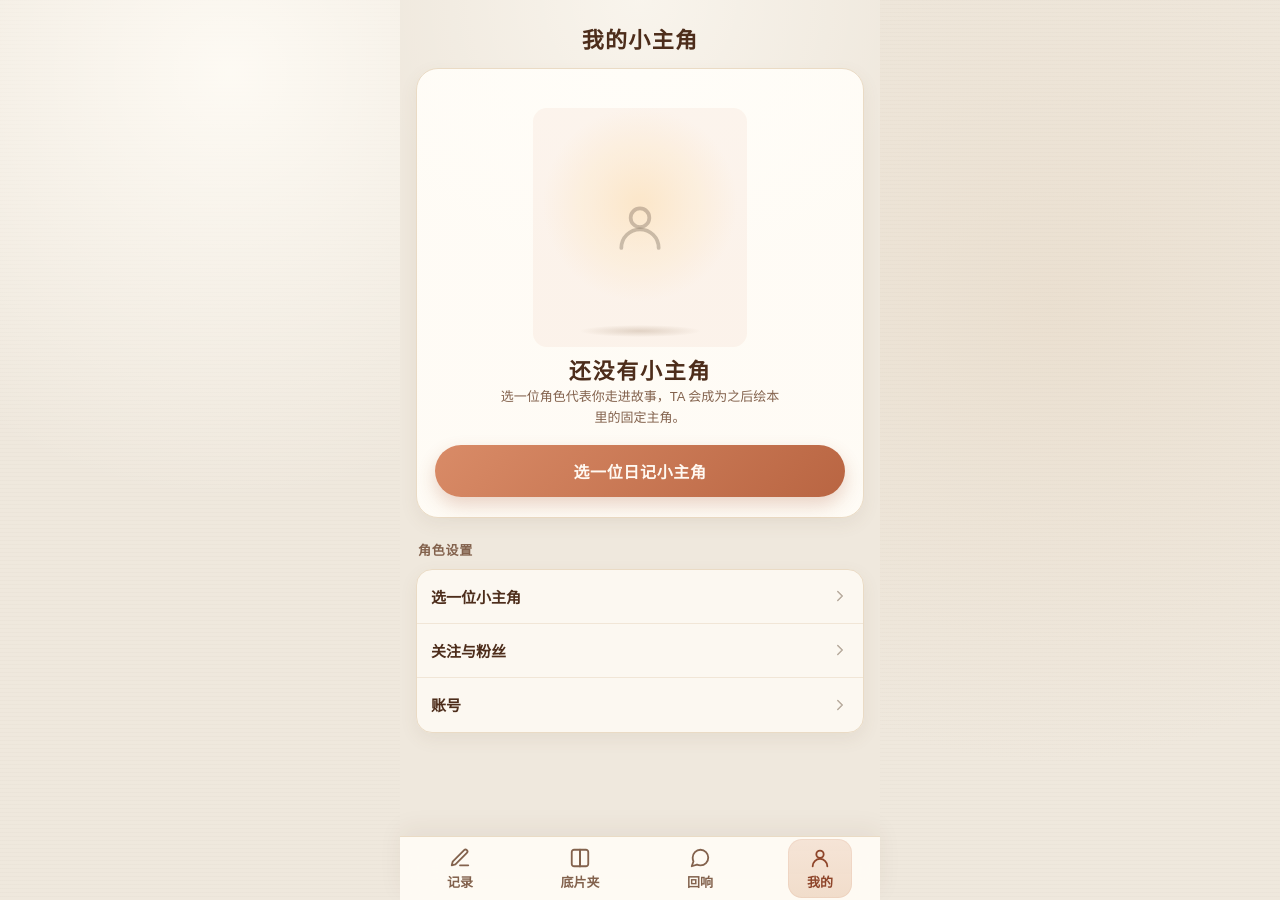
Test: application identity and room states › Film folder opens a motion comic card in the read-only player
Click the button "底片夹": (580, 868) [548,839,612,898]
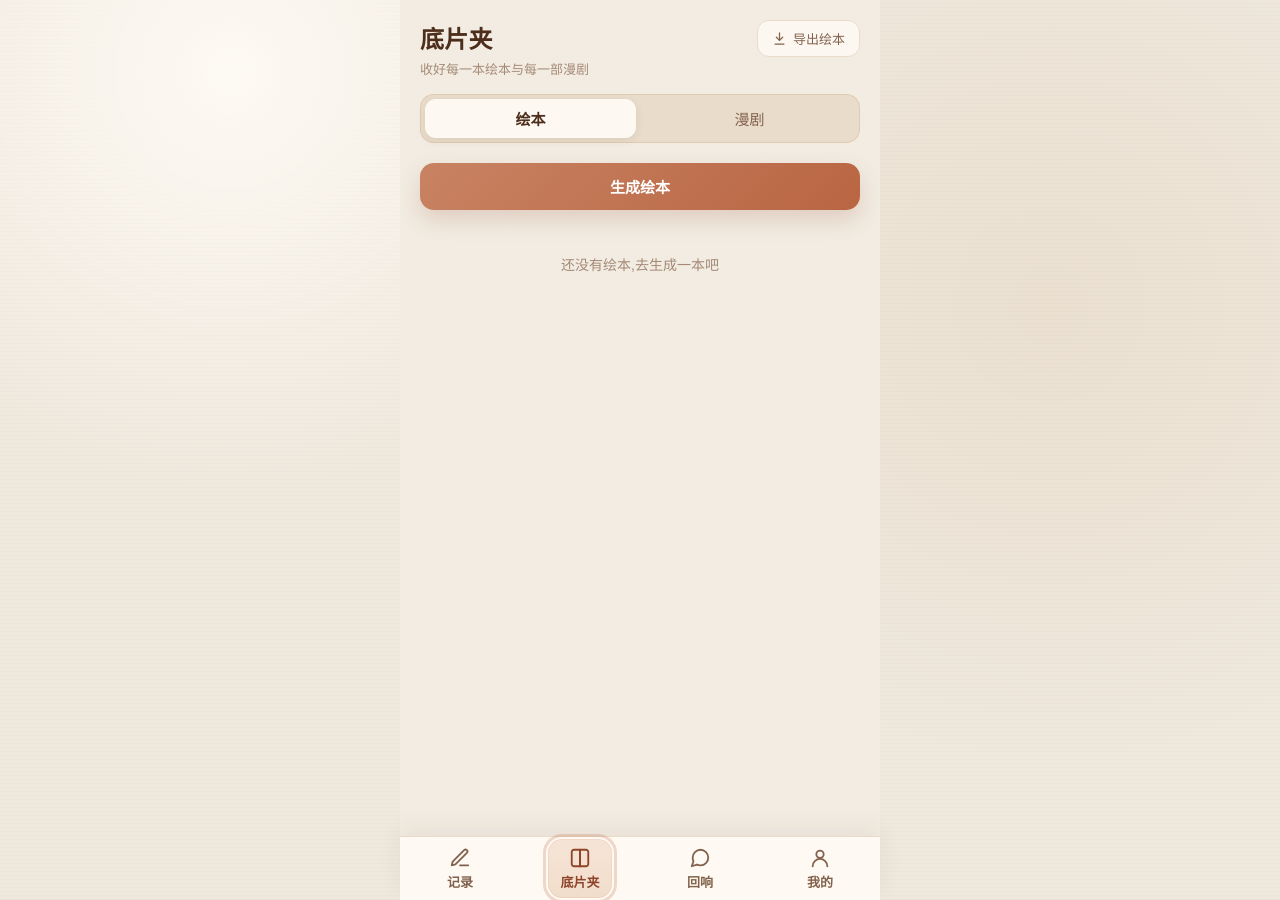
Click the tab "漫剧": (750, 118) [644,99,855,138]
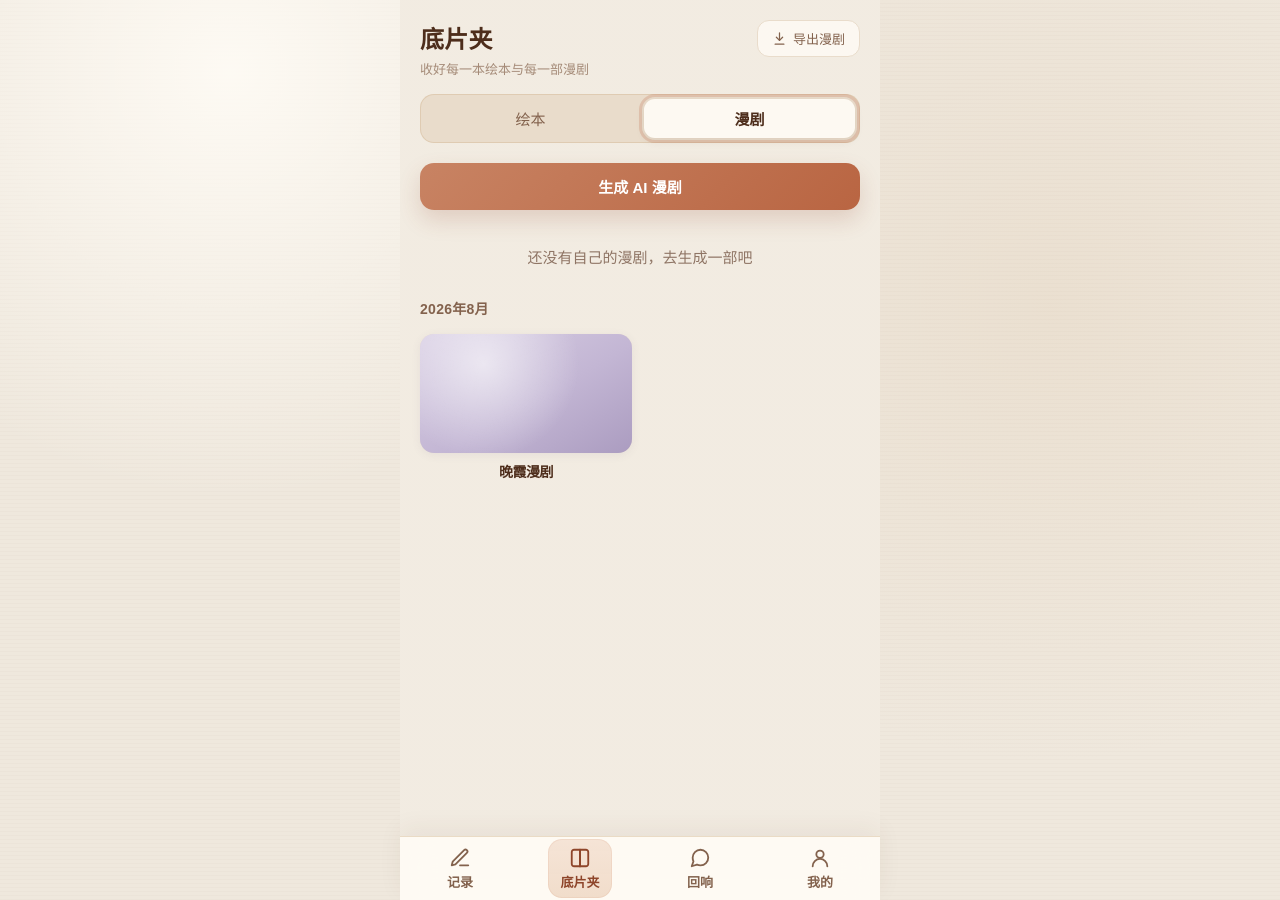
Click the button with aria-label "打开《晚霞漫剧》": (526, 471) [422,461,630,481]
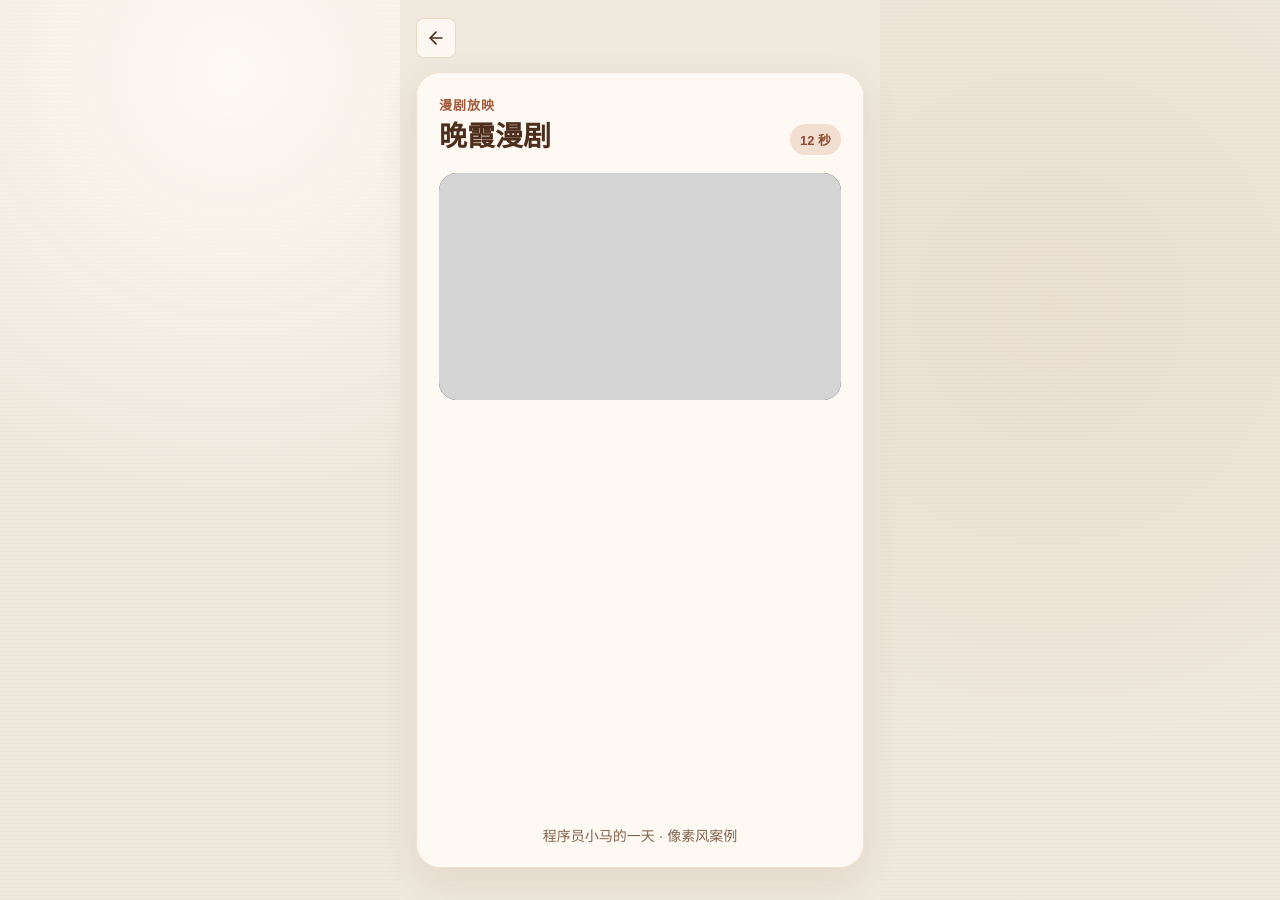
Expected: the button "生成" is gone
